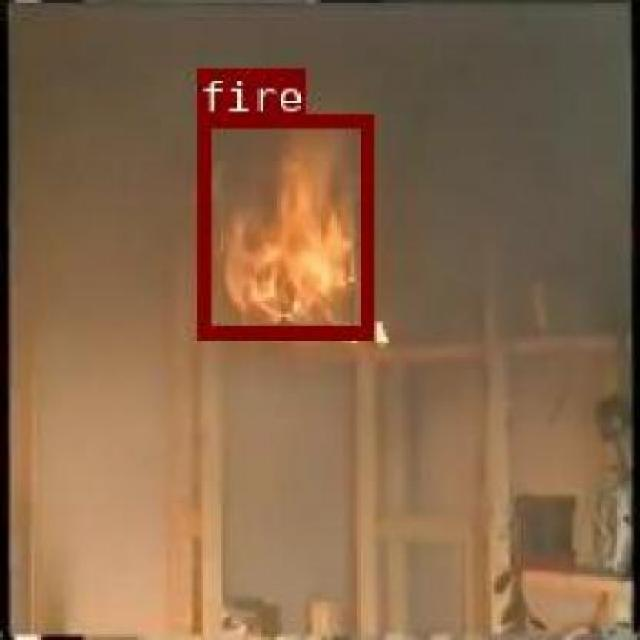Smoke: (196, 114, 370, 334)
